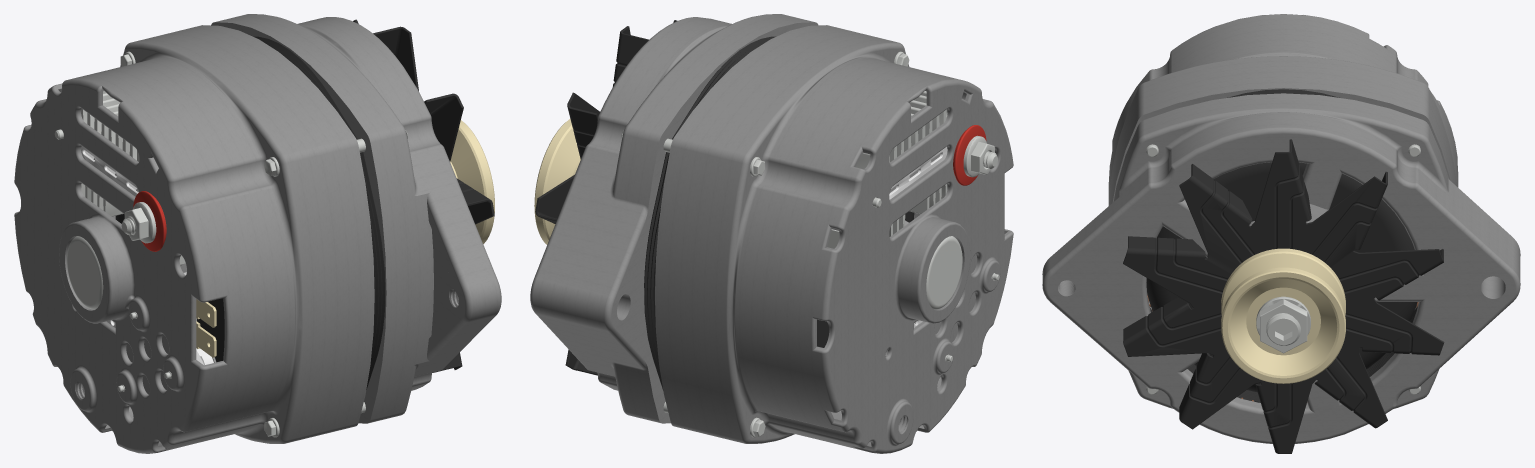
Rendered from Alternator.glb.
3 views of the same model, side by side, from view 1: azimuth 30°, elevation 25°; view 2: azimuth 150°, elevation 25°; view 3: azimuth 270°, elevation 25° (orthographic). The views are drawn at different scales.
Visible parts, largest first — view 1: Body21, Body9, Body18, Body661; view 2: Body21, Body9, Body18; view 3: Body21, Body9, Body18.
Boxes of the visible parts, bbox=[...] form: Body21: bbox=[14, 14, 501, 453]; Body9: bbox=[54, 19, 494, 437]; Body18: bbox=[196, 120, 494, 357]; Body661: bbox=[126, 263, 186, 394]; Body21: bbox=[530, 14, 1013, 453]; Body9: bbox=[535, 20, 999, 437]; Body18: bbox=[534, 119, 580, 244]; Body21: bbox=[1042, 14, 1520, 443]; Body9: bbox=[1123, 89, 1444, 453]; Body18: bbox=[1221, 248, 1345, 383].
Size of the model in its own units: 0.165 by 0.14 by 0.1914.
Materials: 8 (7 with a texture image).
